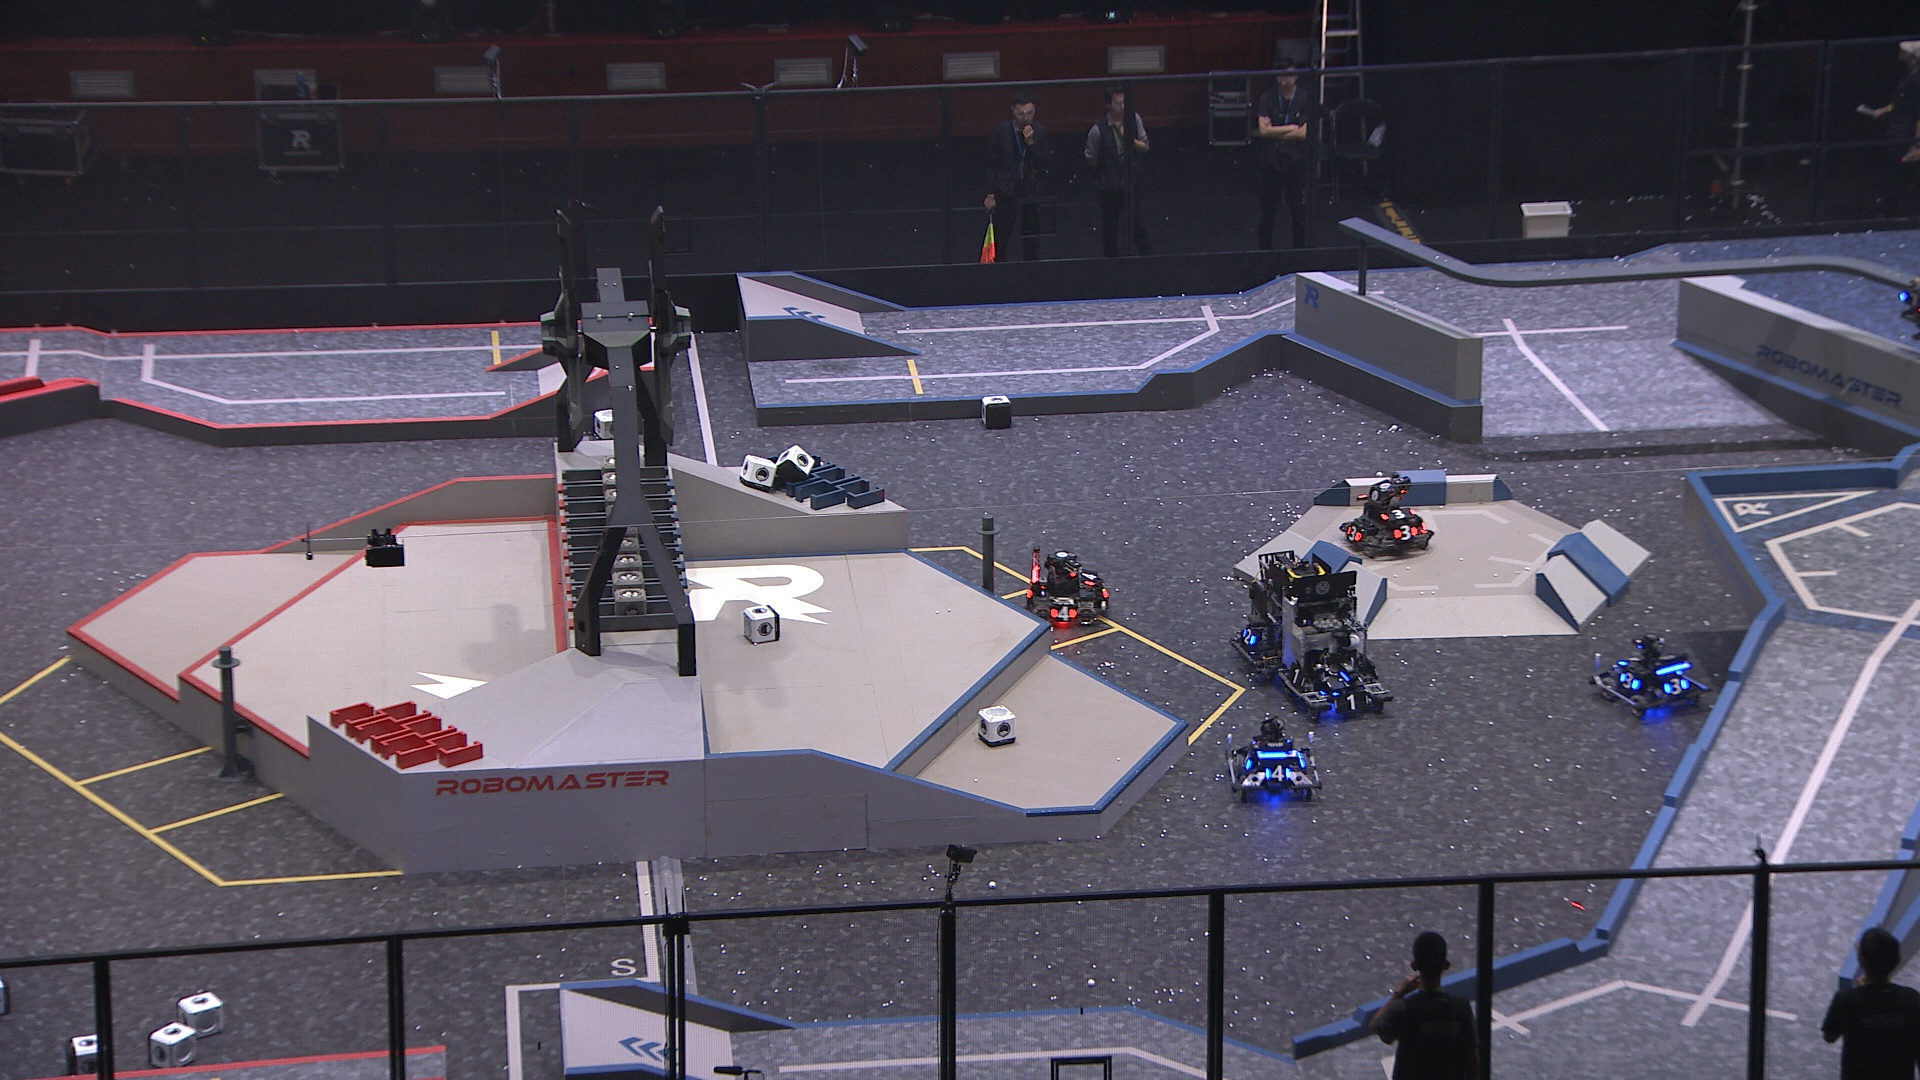armor: (1324, 673, 1364, 688), (1335, 694, 1370, 711), (1263, 766, 1295, 783), (1617, 673, 1640, 694), (1287, 665, 1307, 688), (1381, 506, 1416, 520), (1048, 605, 1077, 621), (1662, 676, 1688, 694), (1083, 566, 1101, 589), (1898, 290, 1920, 309), (1393, 524, 1416, 541), (1240, 750, 1255, 773), (1240, 624, 1255, 646), (1618, 655, 1640, 669), (1346, 524, 1364, 541)
car: (1276, 572, 1395, 723), (1230, 550, 1348, 684), (1592, 633, 1713, 719), (1226, 717, 1325, 804), (1338, 475, 1436, 559), (1021, 549, 1112, 632)
watcher: (1896, 268, 1920, 338)
